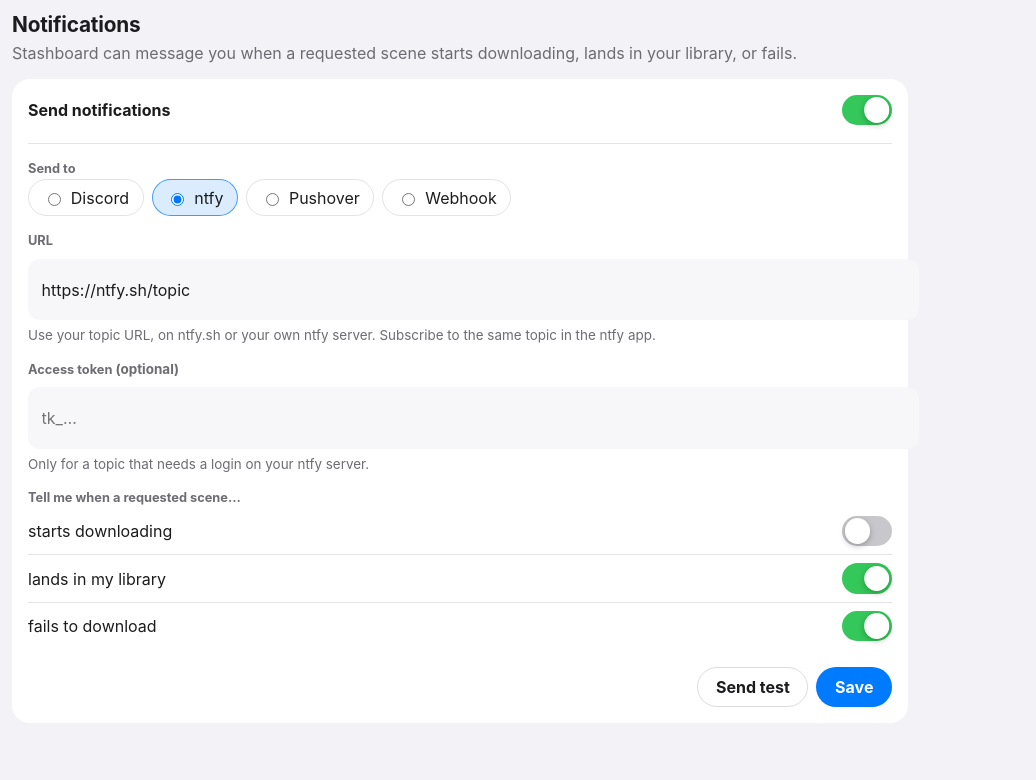
Scenario: SettingsNotificationsPageComponent › sends a test with the current form and shows server errors
This screenshot has width=1036, height=780.
What coordinates should you click on to do the following:
click the button "Send test"
I would click on:
 (753, 687)
Its box is left=697, top=667, right=808, bottom=707.
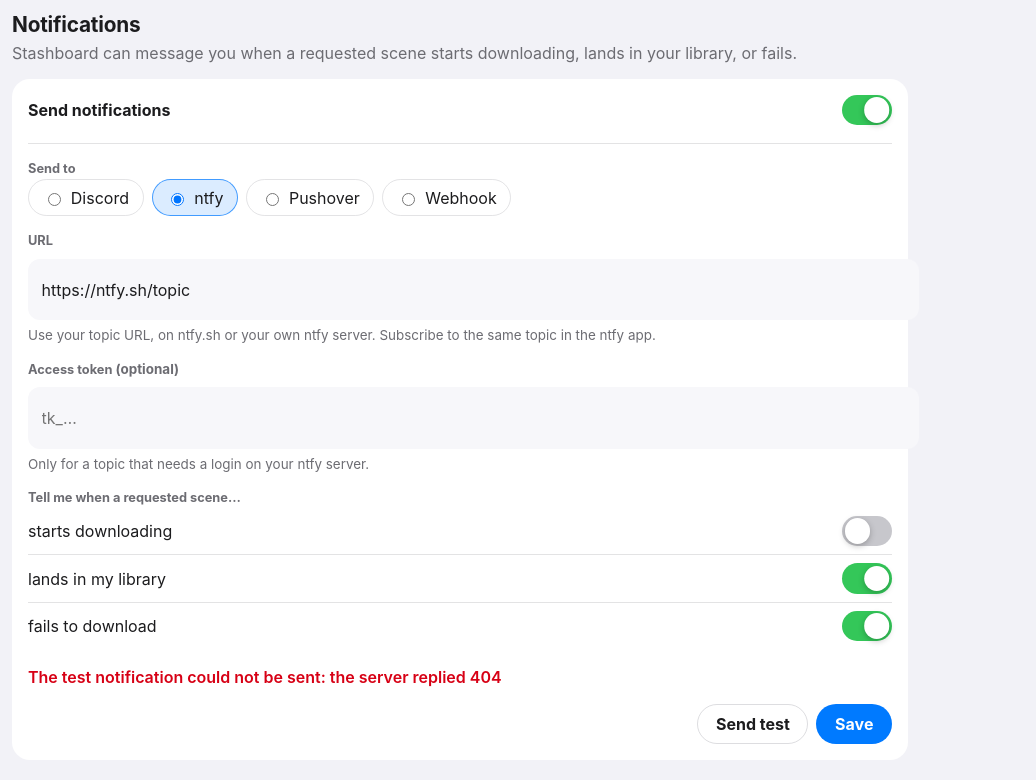
Now the text "the server replied 404" is shown, box left=28, top=667, right=502, bottom=687
